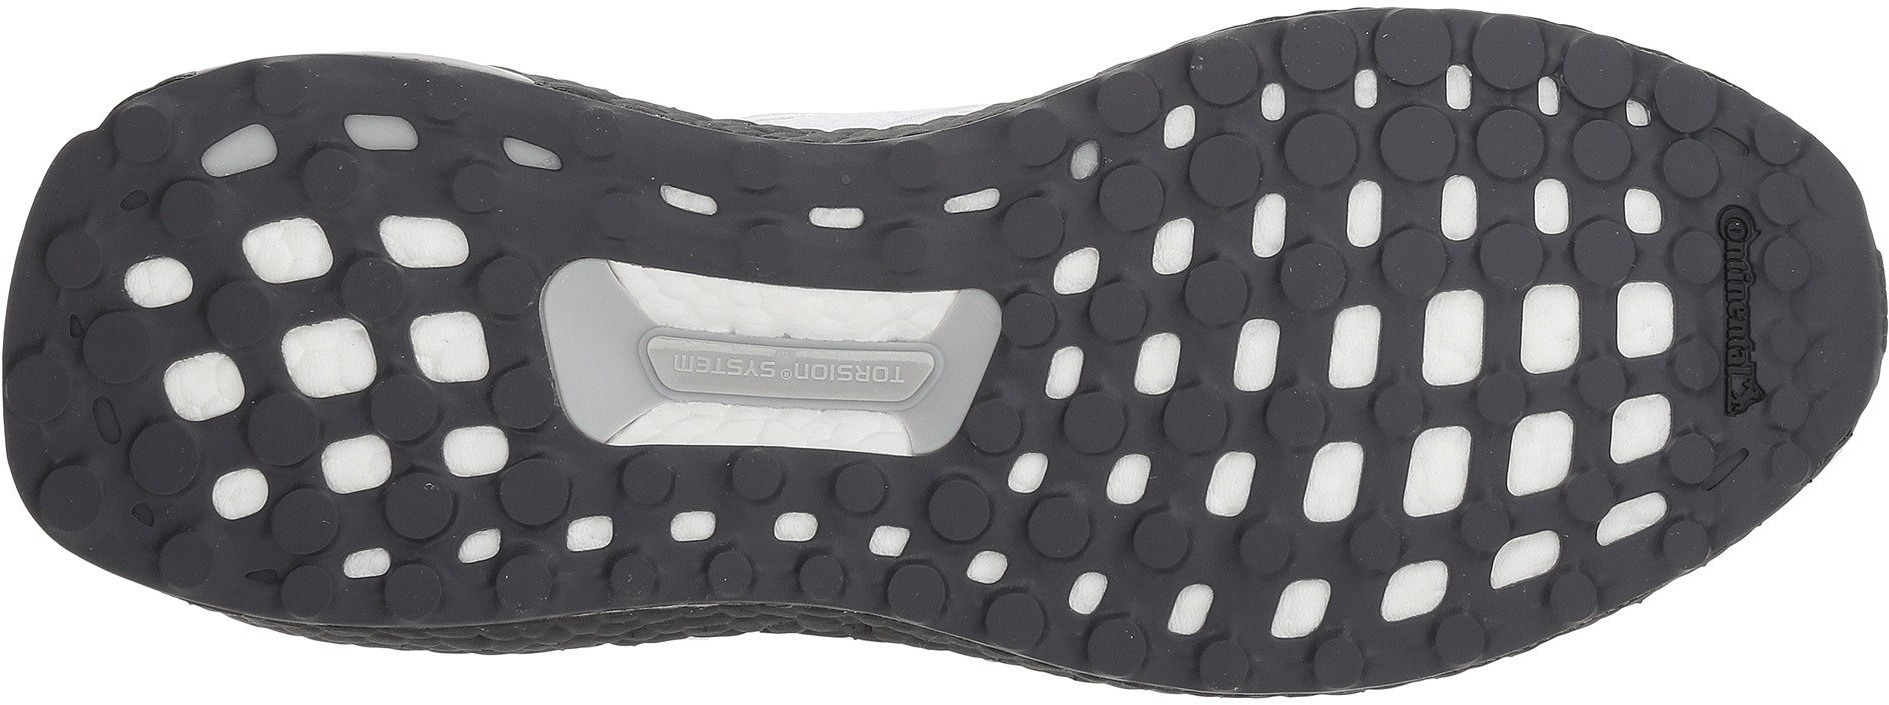circle: (1132, 396, 1429, 680), (1171, 42, 1434, 322), (1481, 205, 1725, 411), (180, 276, 292, 372)
quad: (1132, 396, 1429, 680), (1472, 192, 1725, 398), (1481, 205, 1725, 411)
text: (755, 337, 846, 411), (1720, 262, 1787, 346), (659, 347, 745, 407), (854, 347, 913, 406)
